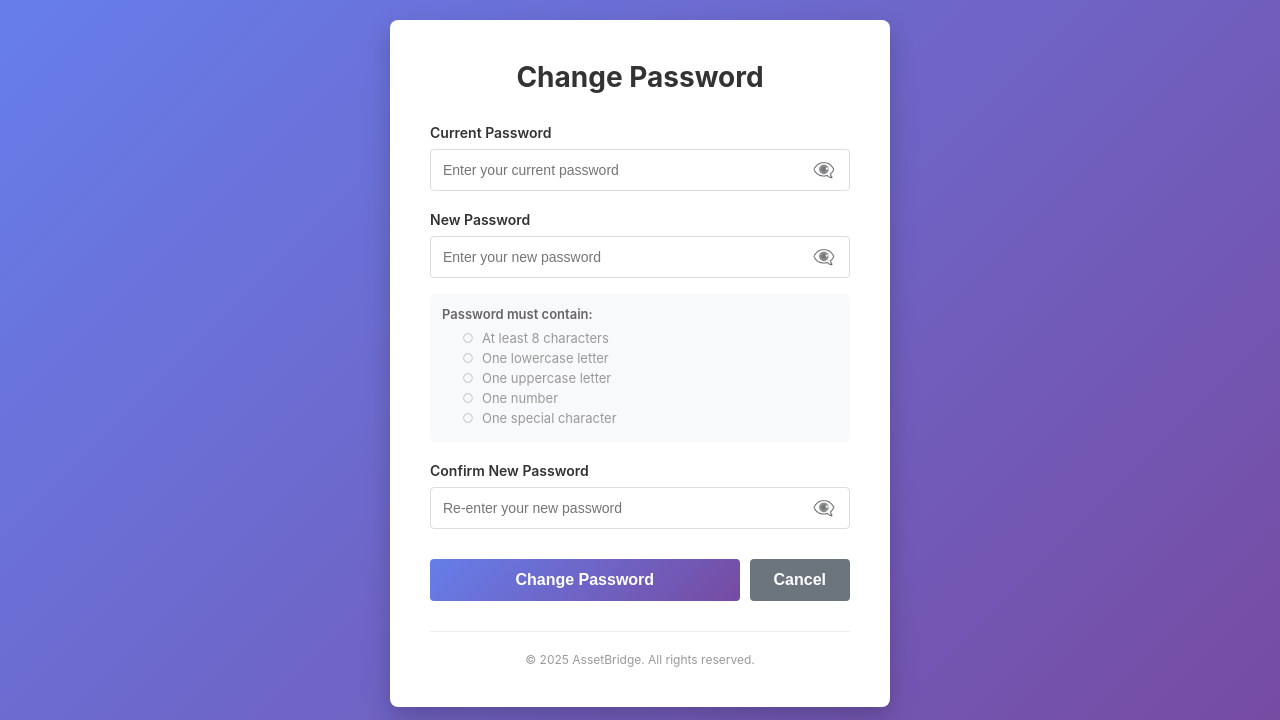
ChangePassword Component › should show validation error when fields are empty
Expected: the heading "Change Password" is shown, [516,60,764,94]
Click the button "Change Password". click: (585, 580)
box: [430,559,740,601]
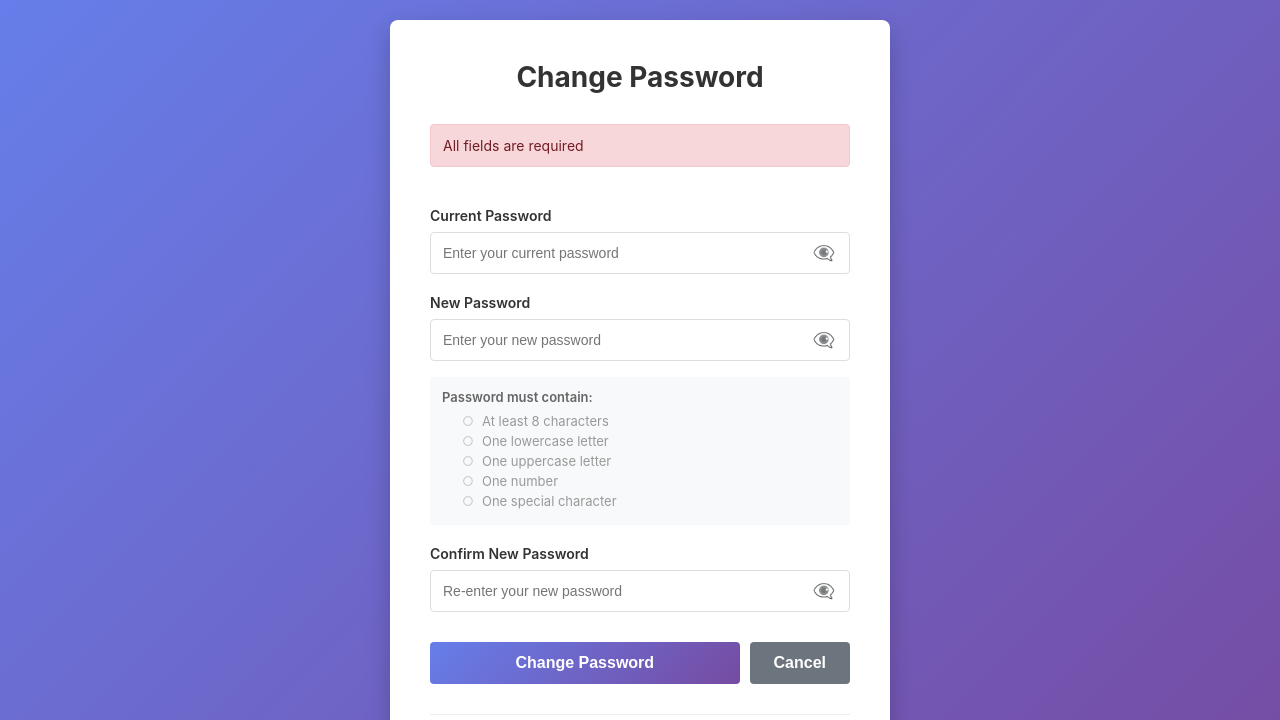
Expected: the text "All fields are required" is shown, [430,124,850,167]
